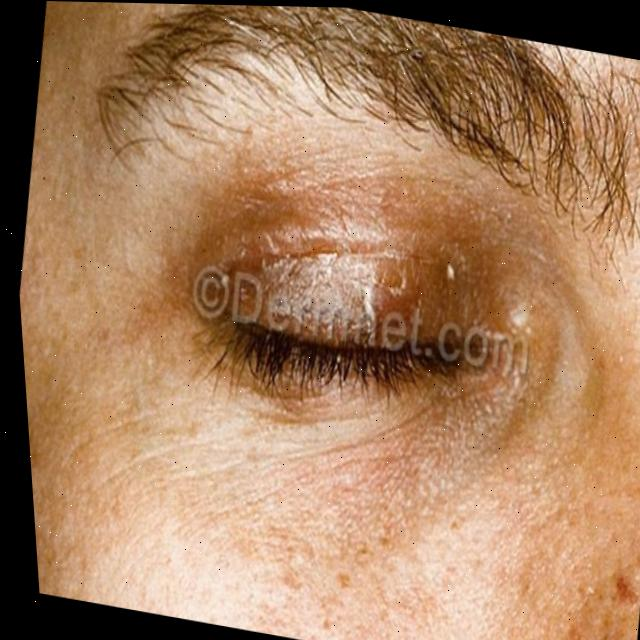Eczema: (199, 145, 495, 337)
